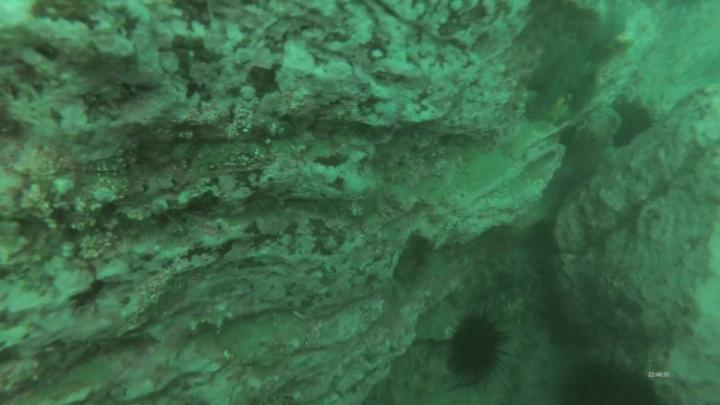echinus: (556, 351, 671, 405), (441, 309, 512, 390), (610, 92, 661, 148)
holothurian: (450, 254, 544, 311), (500, 319, 556, 405), (490, 278, 550, 328)
